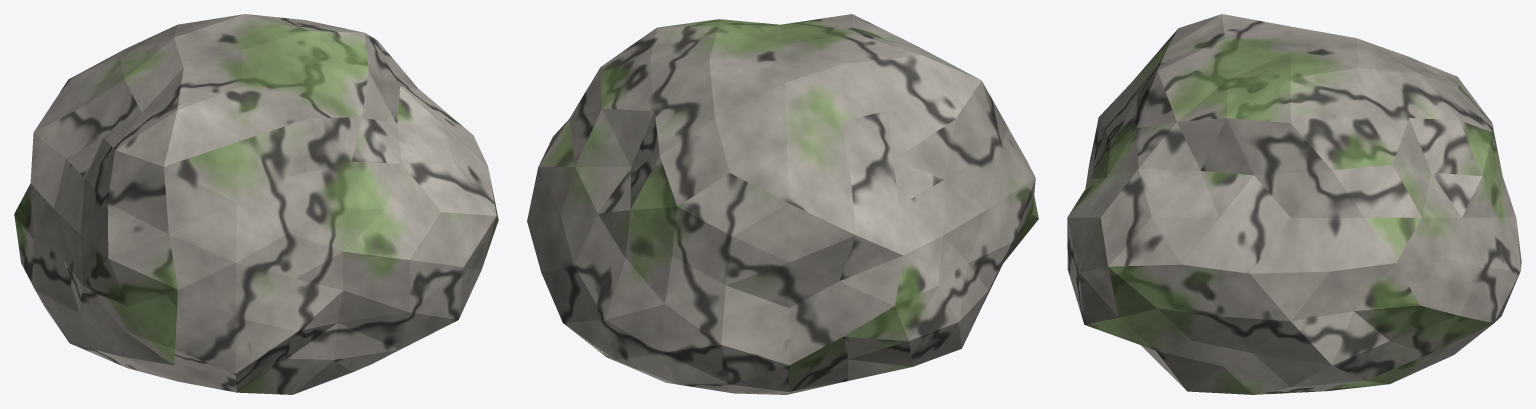
The model's file is Boulder_LOD2.fbx.
The picture shows the model from 3 angles, left to right: view 1: azimuth 30°, elevation 25°; view 2: azimuth 150°, elevation 25°; view 3: azimuth 270°, elevation 25°; orthographic projection. The views are drawn at different scales.
Parts seen in each view (by area): view 1: Boulder_LOD2; view 2: Boulder_LOD2; view 3: Boulder_LOD2.
Part boxes in pixels (bbox=[...]): Boulder_LOD2: bbox=[14, 14, 498, 394]; Boulder_LOD2: bbox=[527, 14, 1038, 394]; Boulder_LOD2: bbox=[1067, 14, 1521, 394].
Size of the model in its own units: 0.9792 by 0.6635 by 0.9584.
1 material, 1 textured.
